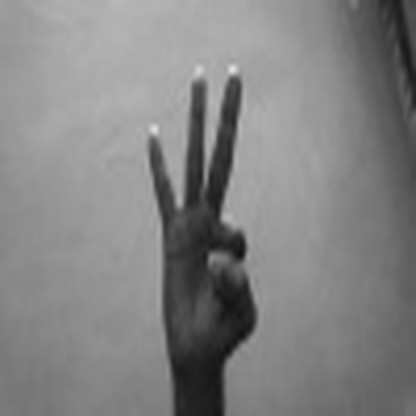f: (135, 53, 288, 362)
